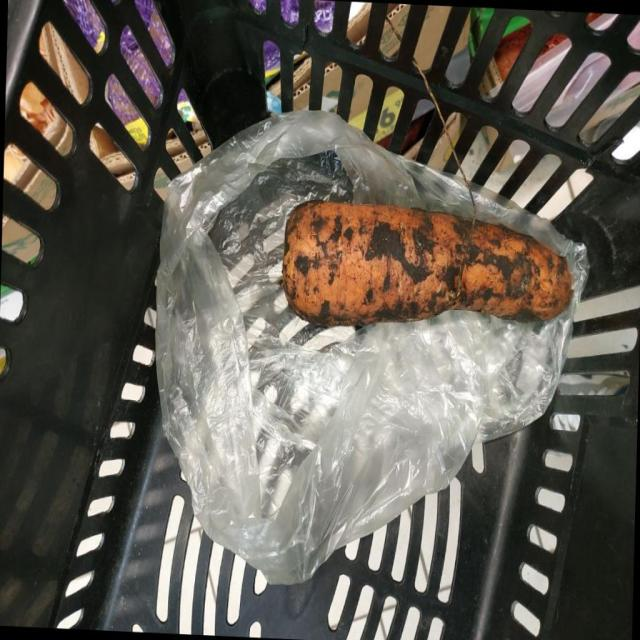Carrot: (282, 201, 573, 326)
